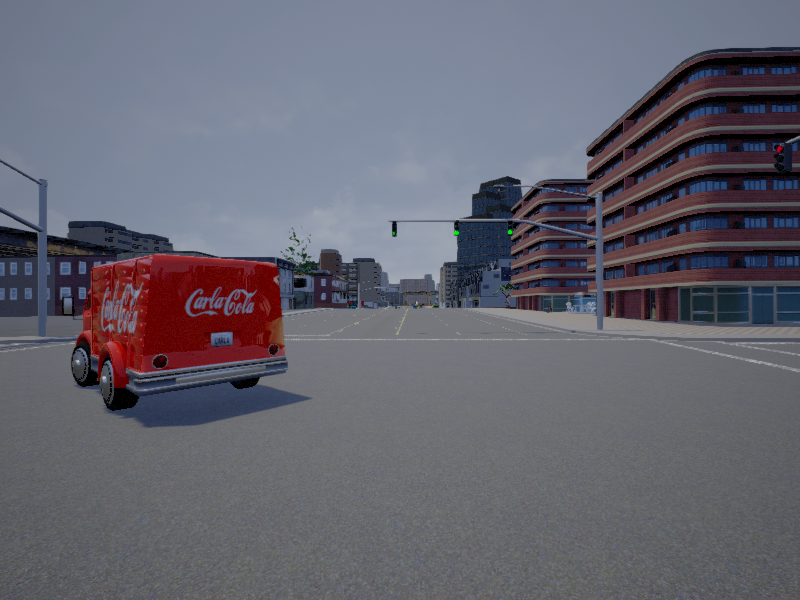Benign: (69, 260, 291, 409)
